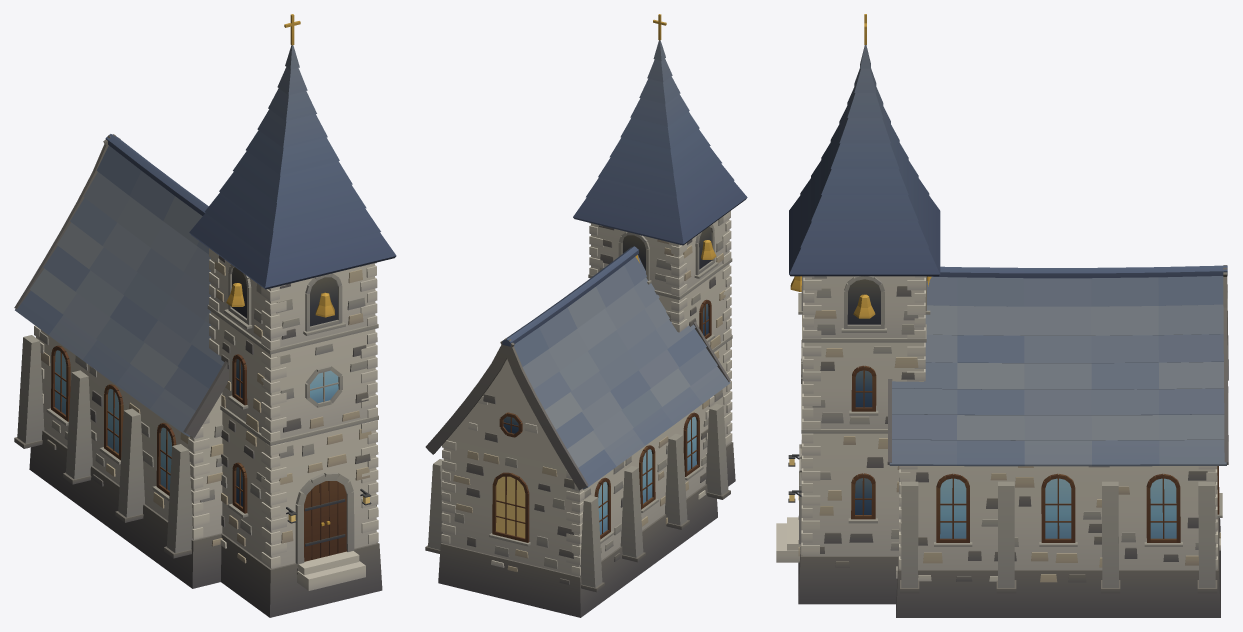
File: lm_chapel.glb
The picture shows the model from 3 angles, left to right: view 1: azimuth 30°, elevation 25°; view 2: azimuth 150°, elevation 25°; view 3: azimuth 270°, elevation 25°; orthographic projection. The views are drawn at different scales.
Parts seen in each view (by area): view 1: lm_chapel; view 2: lm_chapel; view 3: lm_chapel.
Part boxes in pixels (x1,y1,x2,y2): lm_chapel: [14, 14, 396, 617]; lm_chapel: [425, 14, 747, 617]; lm_chapel: [776, 14, 1228, 617].
Size of the model in its own units: 25.6 by 68 by 49.58.
1 material, 1 textured.
